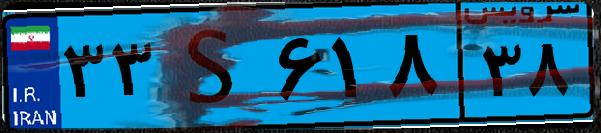1: (330, 28, 385, 110)
3: (57, 26, 110, 100), (475, 38, 525, 113), (110, 28, 158, 98)
6: (270, 28, 330, 110)
8: (385, 28, 445, 110), (525, 38, 570, 115)
S: (158, 12, 270, 120)
